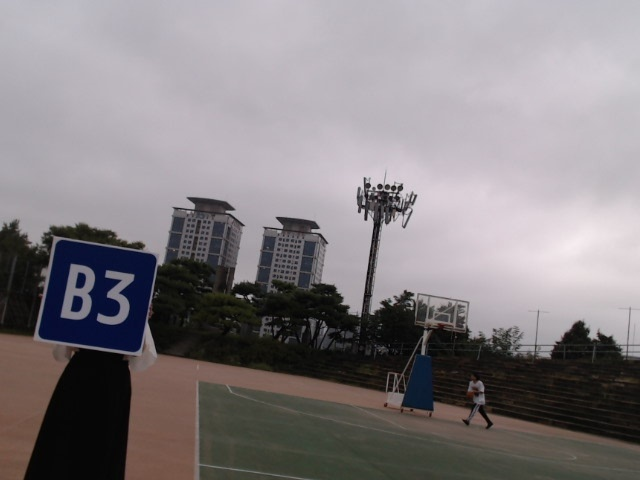delivery_b3: (35, 239, 158, 356)
